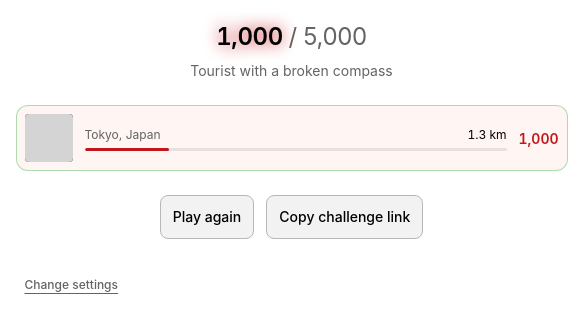
it: GuessSummary › includes default choices explicitly so recipients' saved preferences cannot change the challenge
The width and height of the screenshot is (585, 311).
Click the button "Copy challenge link" at [345, 217], box [266, 195, 423, 239]
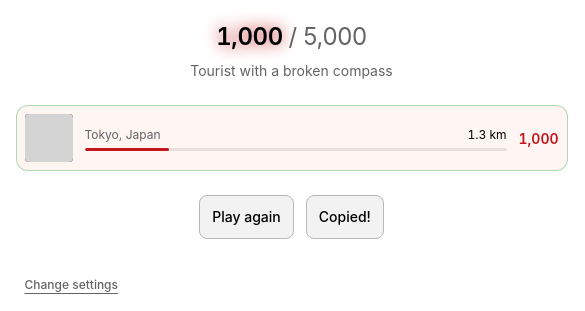
Result: the button "Copied!" is shown at [306, 195, 384, 239]
